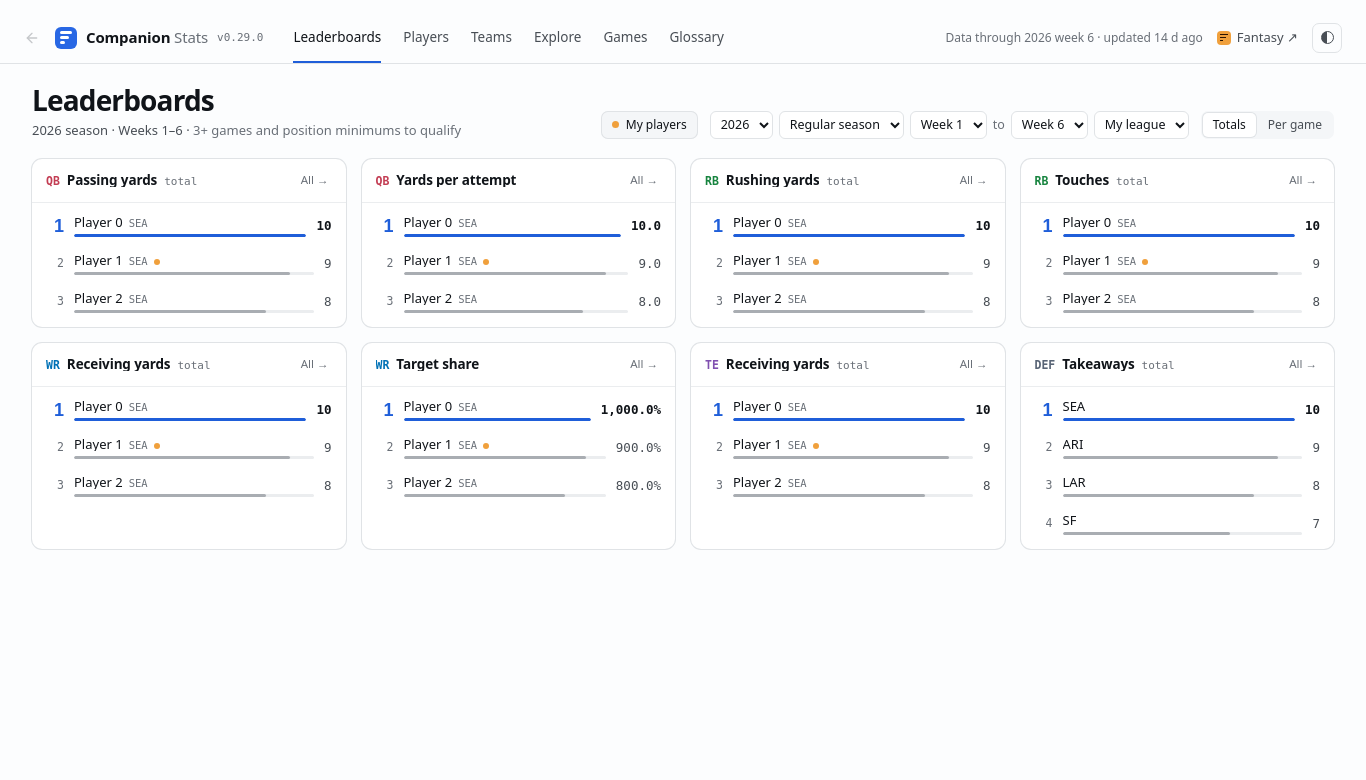
Test case: the team dashboard (spec §9.3) › shows who gets the ball, the ratings, the next game and the EPA trend
This screenshot has width=1366, height=780.
Note: Hovering lists every series that week.
Click the button "Teams".
click(491, 38)  # box 471,12 -> 512,63
(page scrolled)
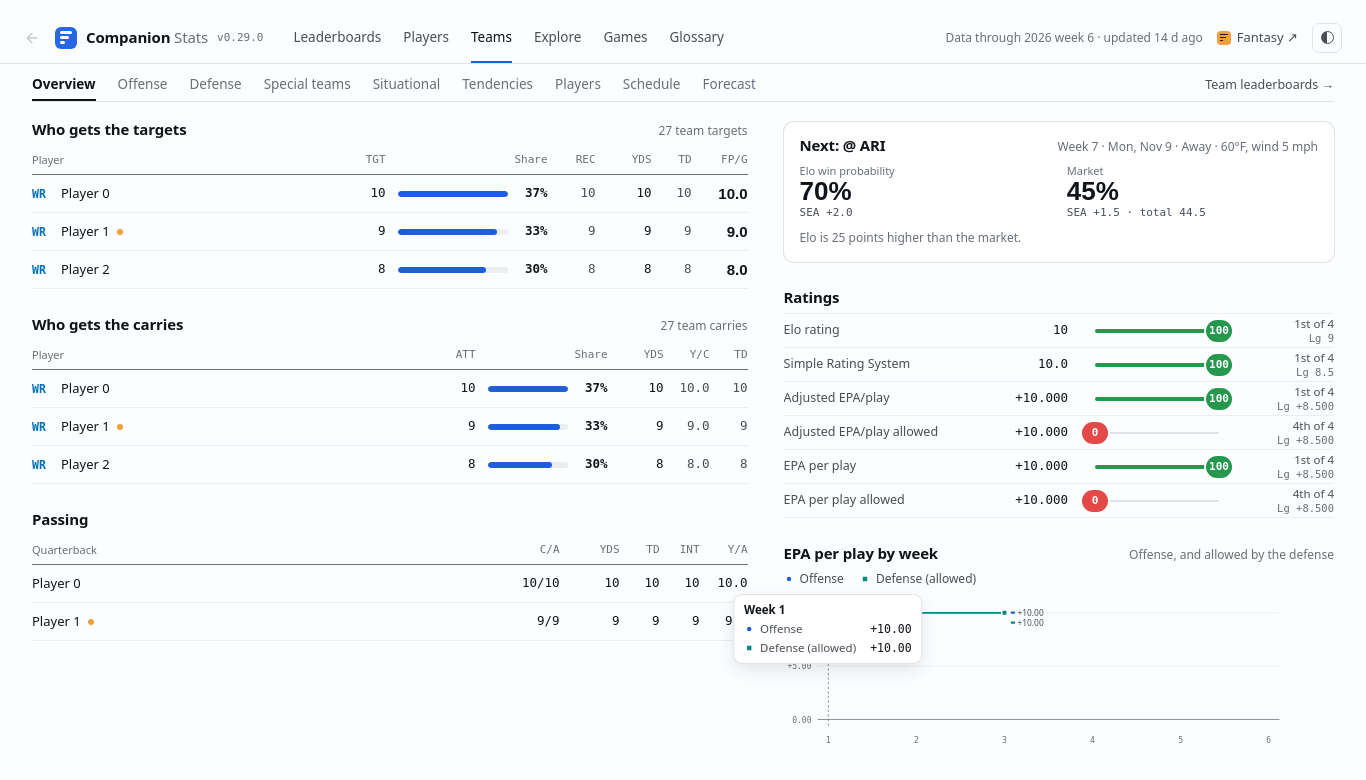
Expected: the heading "Who gets the targets" is shown, 32,122 -> 186,137
Expected: the text "Elo rating" is shown, 784,322 -> 840,339
Expected: the text "1st of 4" in the row of "Elo rating" is shown, 1294,316 -> 1334,331
